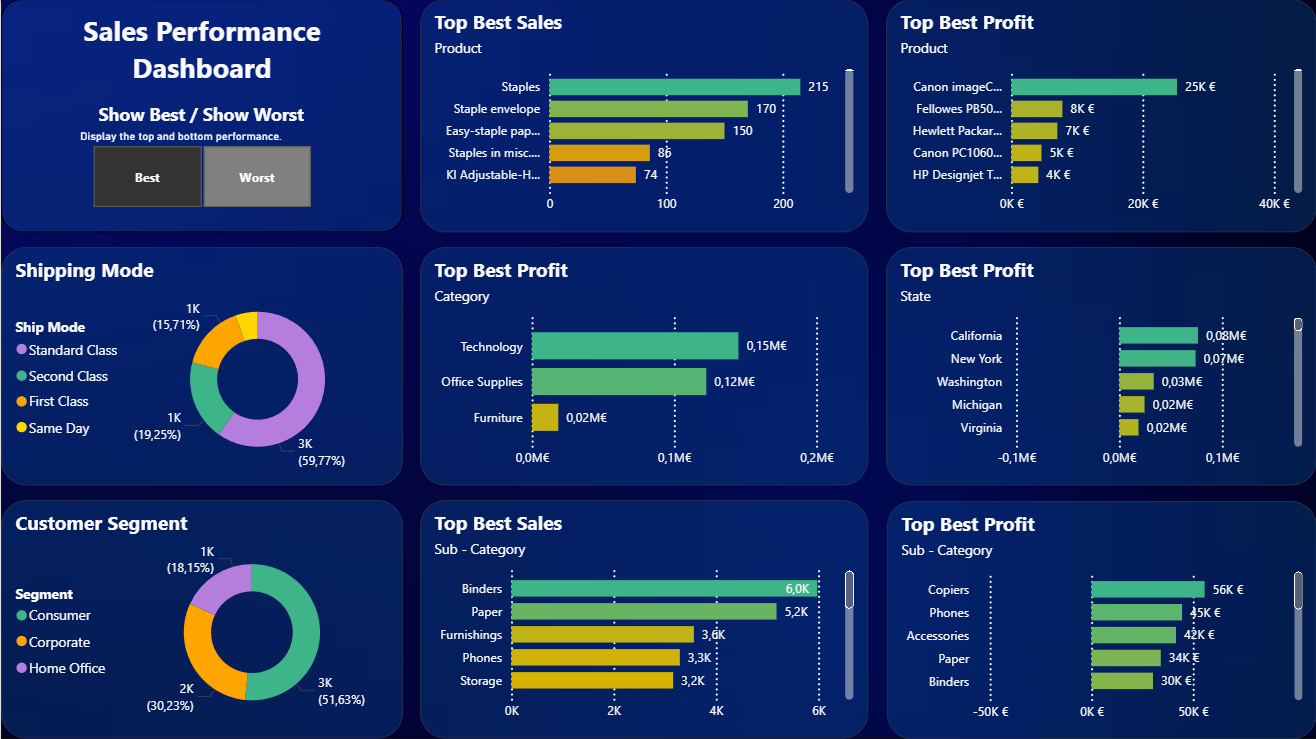

Layout of this report page (visuals, bound fields, positions):
{"tool":"powerbi","page":{"name":"Performance","canvas":[1280,720],"ordinal":2},"visuals":[{"type":"barChart","fields":{"Category":["Product.Product Name"],"Y":["Mesure.Quantity"]},"box":[407.8,0,435.6,226.7],"z":0},{"type":"textbox","title":"Retail Performance Dashboard","box":[0,0,391.1,226.7],"z":1000},{"type":"barChart","fields":{"Y":["Mesure.Profit"],"Category":["Product.Product Name"]},"box":[861.1,0,418.9,226.7],"z":2000},{"type":"slicer","title":"Show Best / Show Worst","fields":{"Values":["sortTable.sort"]},"box":[64.4,98.9,261.1,110],"z":3000},{"type":"barChart","fields":{"Y":["Mesure.Quantity"],"Category":["Product.Sub-Category"]},"box":[407.8,487.8,435.6,232.2],"z":4000},{"type":"barChart","fields":{"Y":["Mesure.Profit"],"Category":["Product.Sub-Category"]},"box":[861.7,488.3,418.3,231.7],"z":6000},{"type":"barChart","fields":{"Y":["Mesure.Profit"],"Category":["Product.Category"]},"box":[407.8,241.1,435.6,232.2],"z":7000},{"type":"barChart","fields":{"Y":["Mesure.Profit"],"Category":["City.State"]},"box":[861.1,241.1,418.9,232.2],"z":8000},{"type":"donutChart","title":"Customer Segment","fields":{"Category":["Segment.Segment"],"Y":["Mesure.NumberOrder"]},"box":[0,487.8,391.1,232.2],"z":9000},{"type":"donutChart","title":"Shipping Mode","fields":{"Category":["Ship.Ship Mode"],"Y":["Mesure.NumberOrder"]},"box":[0,241.1,391.1,232.2],"z":10000}]}

Visuals, with their boxes in screenshot pixels (x1, y1, x2, y2), scaled from the page's 1280x720 canvas onto the 1316x739 screenshot:
barChart - Product.Product Name x Mesure.Quantity: 419, 0, 867, 233
"Retail Performance Dashboard" textbox: 0, 0, 402, 233
barChart - Mesure.Profit x Product.Product Name: 885, 0, 1315, 233
"Show Best / Show Worst" slicer: 66, 102, 335, 214
barChart - Mesure.Quantity x Product.Sub-Category: 419, 501, 867, 738
barChart - Mesure.Profit x Product.Sub-Category: 886, 501, 1315, 738
barChart - Mesure.Profit x Product.Category: 419, 247, 867, 486
barChart - Mesure.Profit x City.State: 885, 247, 1315, 486
"Customer Segment" donutChart: 0, 501, 402, 738
"Shipping Mode" donutChart: 0, 247, 402, 486
